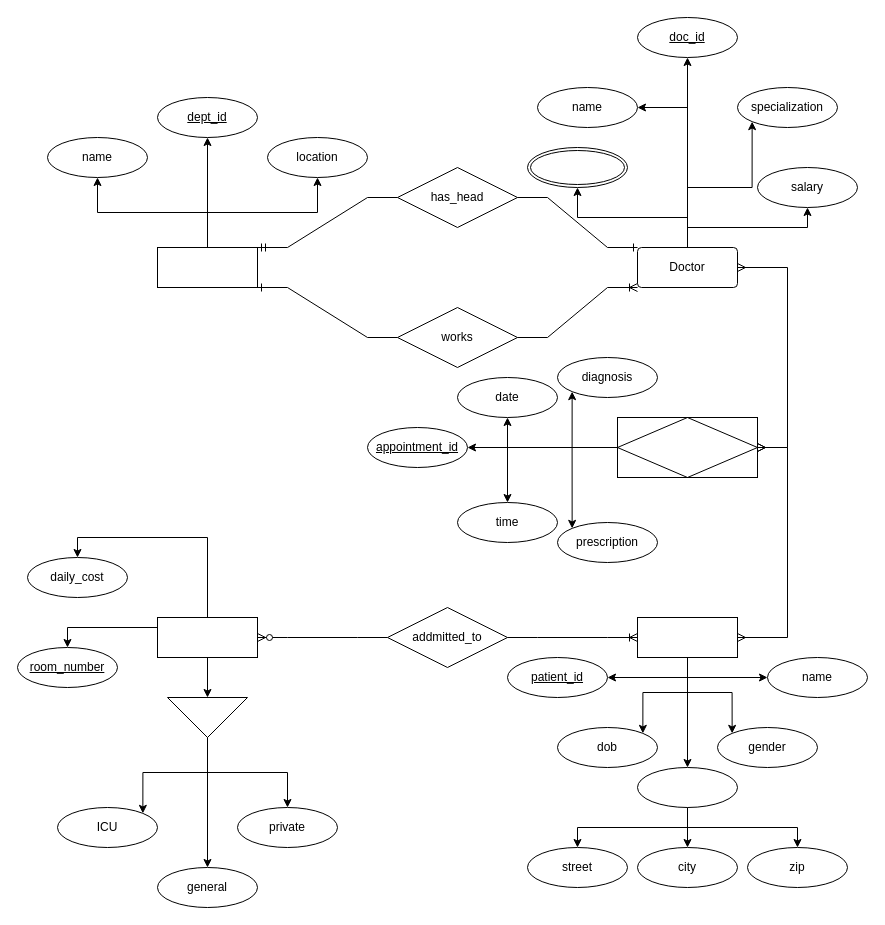
The diagram is 885 pixels wide and 925 high, and some of its shapes have lost their labels. The centre of each missing label's shape, as x and y in pixels:
"address" belongs at (687,787).
"Appointment" belongs at (687,447).
"Department" belongs at (207,267).
"ISA" belongs at (207,717).
"Patient" belongs at (687,637).
"phone_num" belongs at (577,167).
"Room" belongs at (207,637).
